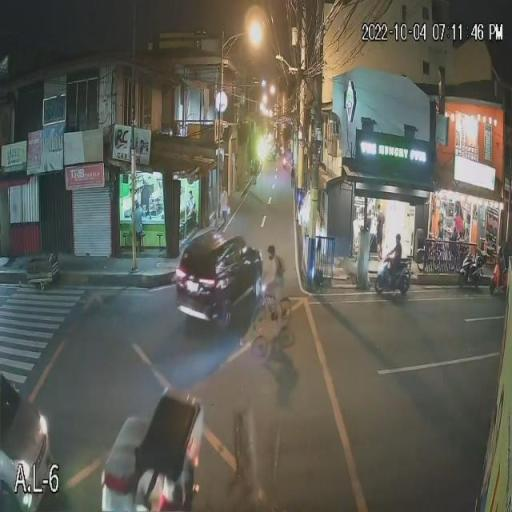helmet: (390, 228, 406, 244)
motorcycle: (376, 259, 416, 300)
rider: (390, 228, 402, 270)
